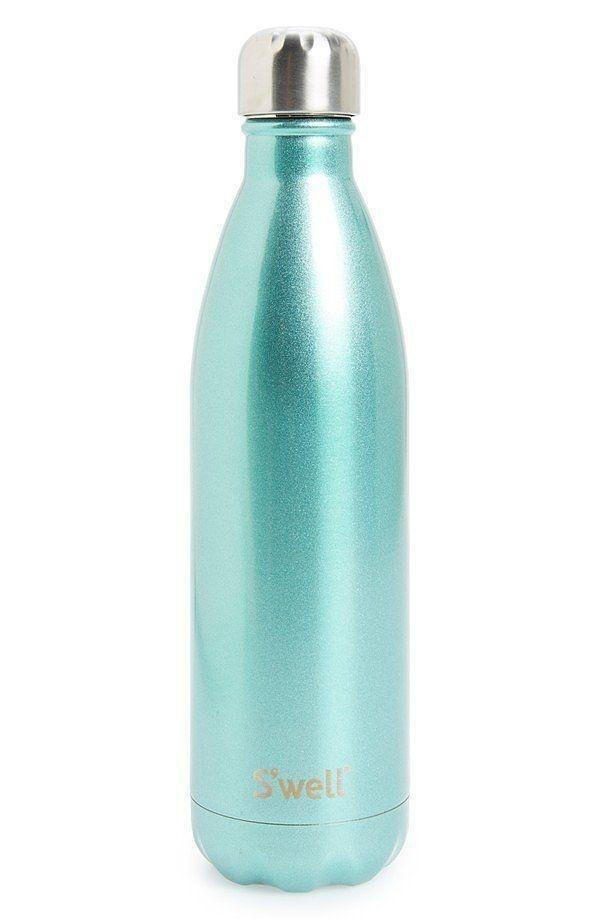gym bottle: (180, 25, 413, 896)
